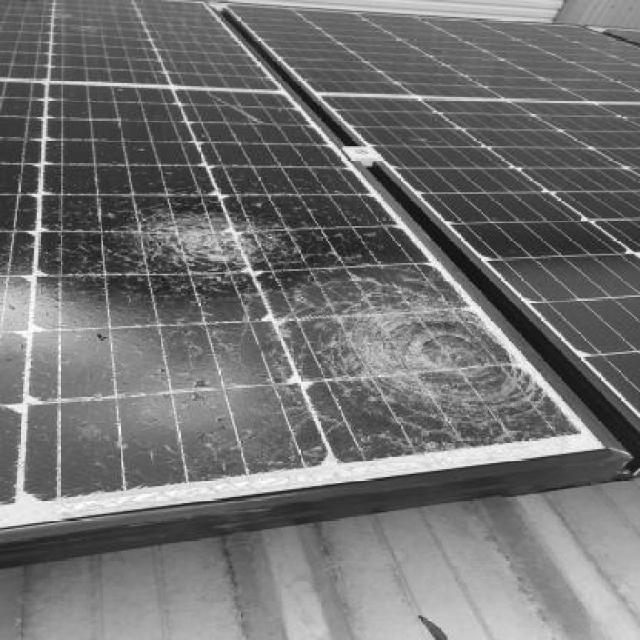Anomaly Solar Panel: (0, 80, 608, 529)
Normal Solar Panel: (319, 94, 639, 431), (226, 4, 639, 103), (0, 1, 284, 88)
Structural Damage: (243, 262, 578, 468), (100, 195, 305, 276)
